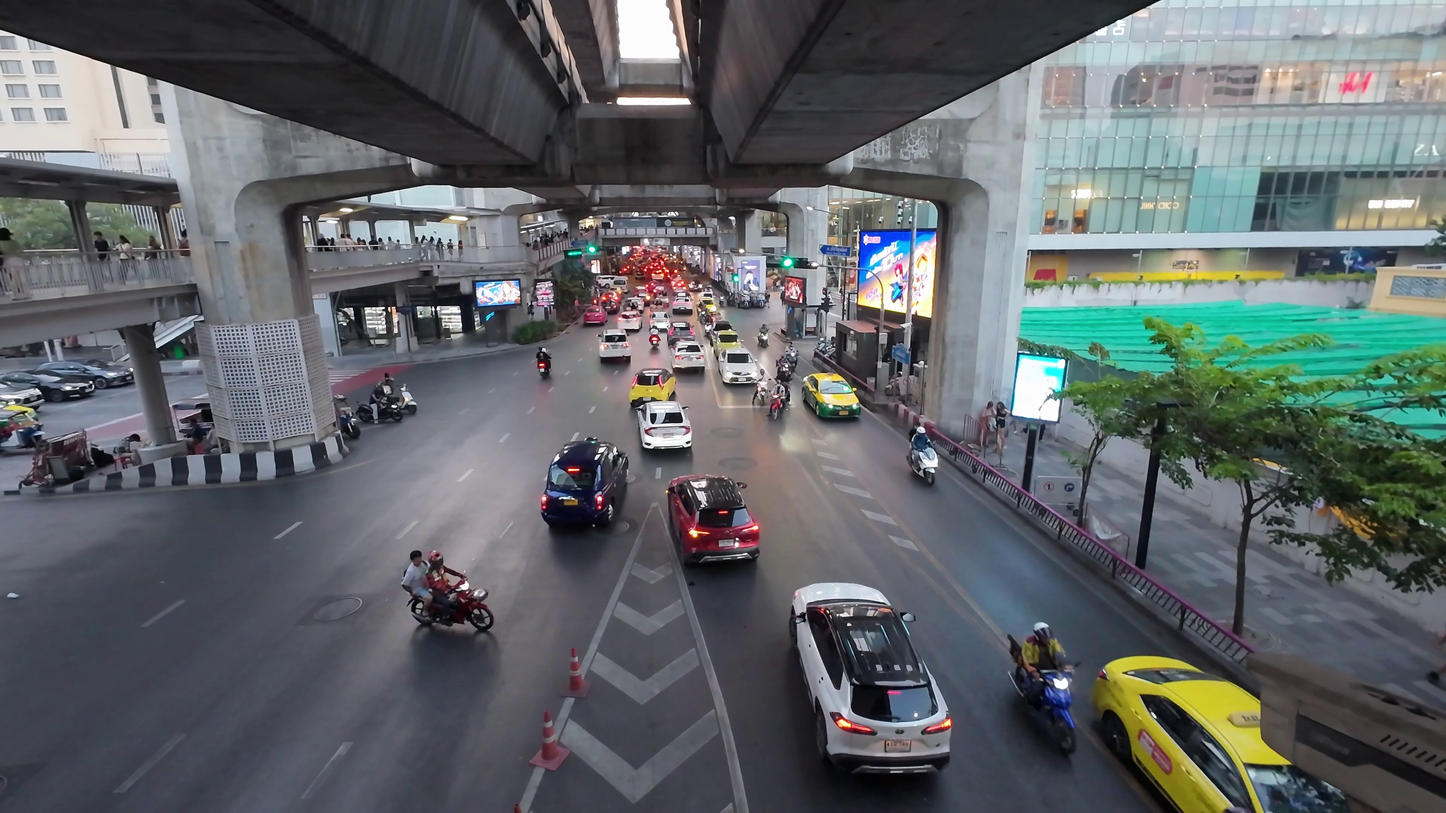license_plate: (1157, 747, 1293, 799), (1156, 748, 1292, 799), (830, 698, 913, 761), (830, 699, 913, 762), (689, 530, 738, 560), (562, 493, 605, 524), (423, 609, 470, 631), (649, 433, 679, 451), (32, 386, 77, 398), (817, 402, 845, 419), (375, 411, 403, 422), (643, 385, 664, 396), (731, 373, 749, 384), (681, 352, 697, 360), (609, 344, 625, 352)
motorcycle: (399, 549, 494, 635), (361, 379, 417, 425)
no_seatbelt: (1129, 675, 1319, 756), (1130, 675, 1320, 755), (813, 609, 930, 708), (813, 609, 929, 708), (680, 488, 747, 534), (554, 450, 613, 498), (23, 368, 86, 388), (643, 409, 685, 436), (811, 379, 851, 405), (638, 371, 668, 387), (728, 359, 753, 375), (677, 340, 700, 353), (606, 332, 628, 345)
